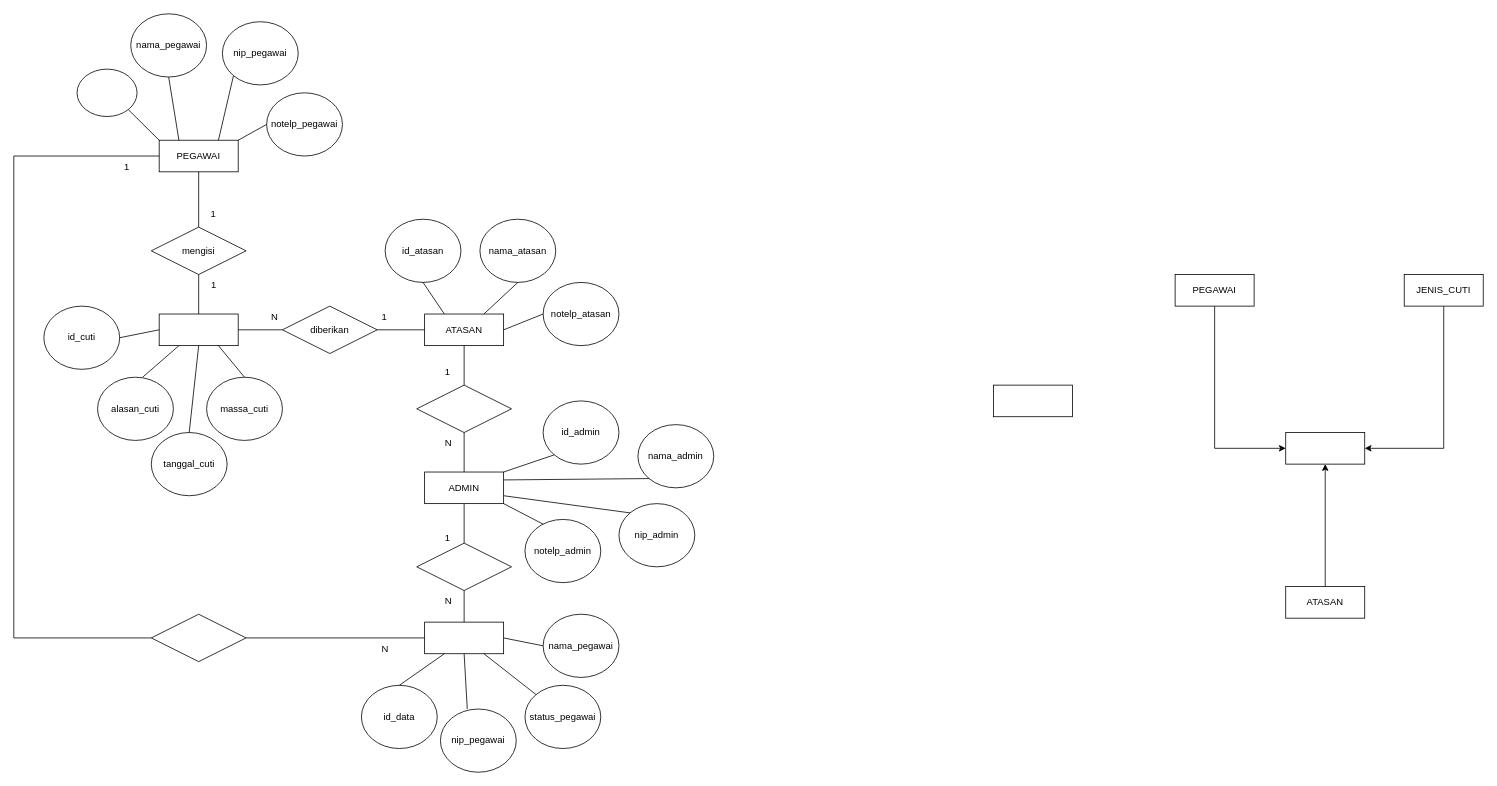
The diagram is 1497 pixels wide and 786 high, and some of its shapes have lost their labels. Each missing label, with the centre of its shape:
"BERKAS_CUTI" goes at point 198,329.
"DATA" goes at point 464,637.
"DATA_CUTI" goes at point 1325,448.
"Entity" goes at point 1032,400.
"id_pegawai" goes at point 106,92.
"memberitahu" goes at point 464,408.
"mengakses" goes at point 198,637.
"mengubah" goes at point 464,566.
